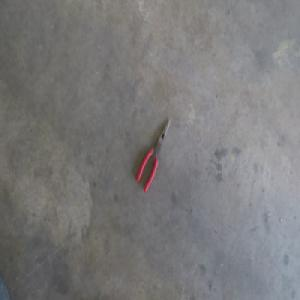Pliers: (135, 122, 170, 197)
